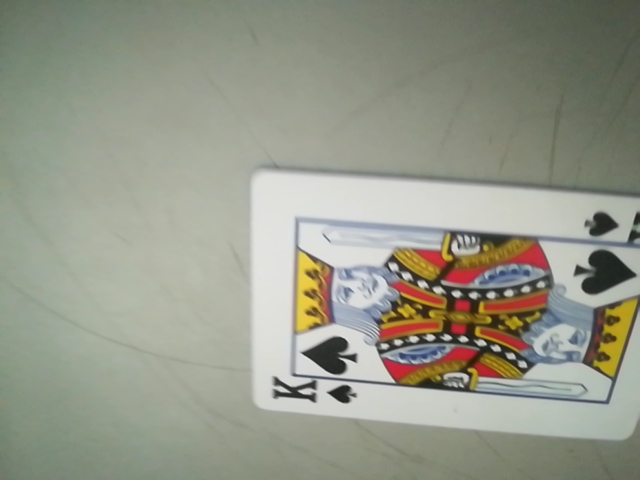ht k: (261, 372, 366, 411)
